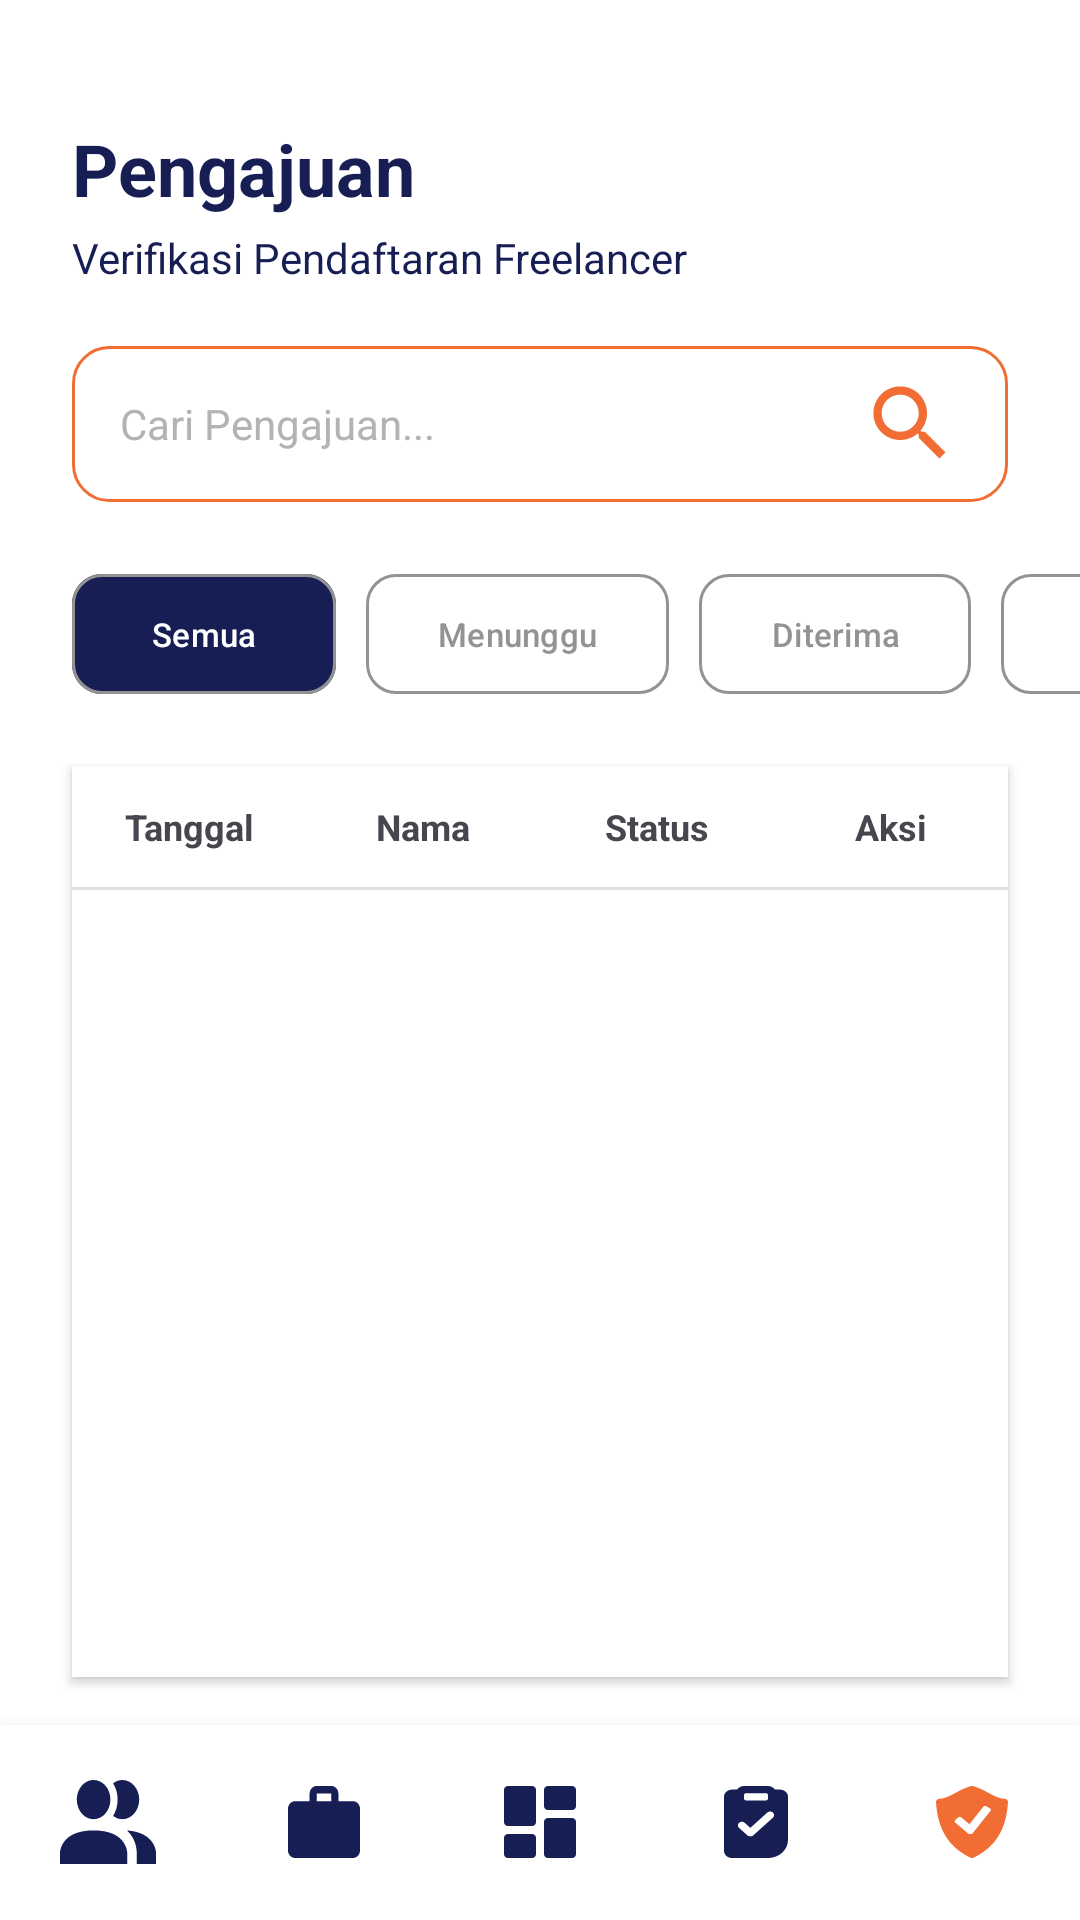

Named icons in this screenshot (1080px×1920px) and their bounding boxes, (x1,y1,x2,y2):
bag: (288,1786,360,1858)
booking: (724,1786,788,1858)
dashboardadmin: (504,1786,576,1858)
klpengguna: (60,1780,156,1864)
